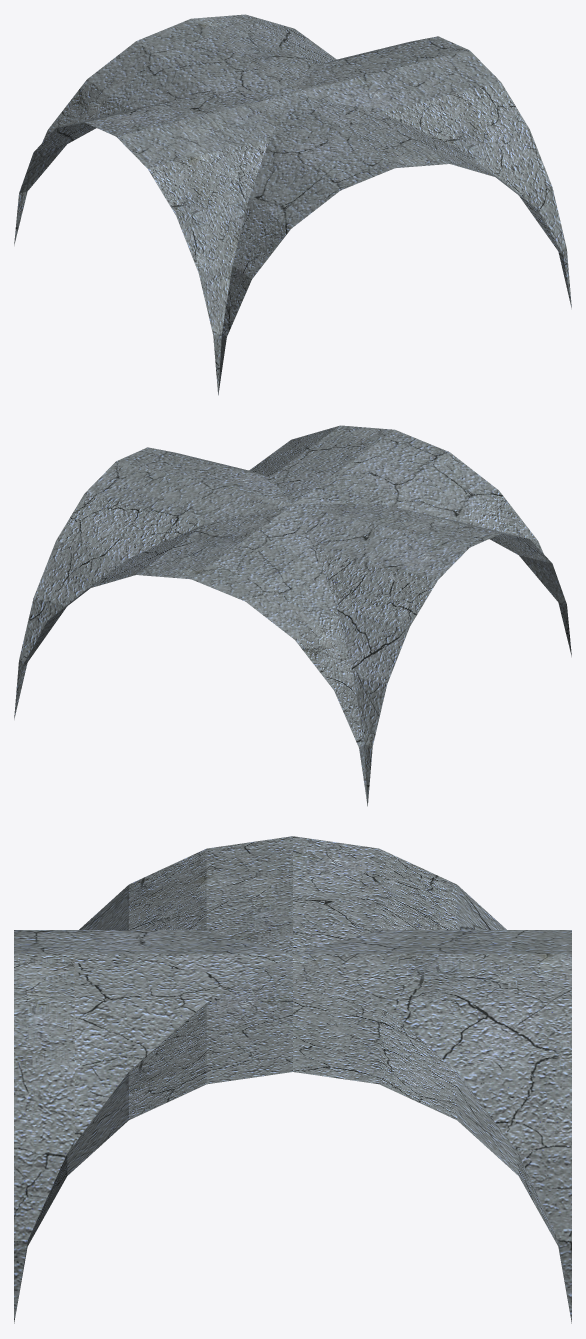
The model's file is ceiling_10.fbx.
The picture shows the model from 3 angles, top to bottom: view 1: azimuth 30°, elevation 25°; view 2: azimuth 150°, elevation 25°; view 3: azimuth 270°, elevation 25°; orthographic projection. The views are drawn at different scales.
Visible parts, largest first — view 1: ceiling_10; view 2: ceiling_10; view 3: ceiling_10.
Boxes of the visible parts, left/top/right/bottom form: ceiling_10: left=14, top=14, right=571, bottom=395; ceiling_10: left=14, top=425, right=571, bottom=806; ceiling_10: left=14, top=836, right=571, bottom=1323.
Bounding box in the file's own units: 100 × 50 × 100.
